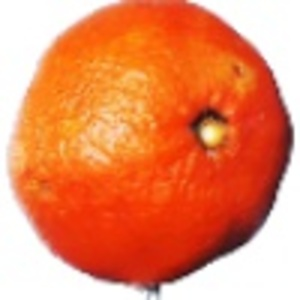tangerina: (6, 1, 295, 300)
